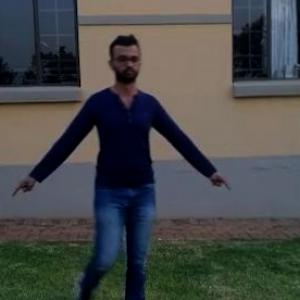land: (34, 46, 210, 299)
